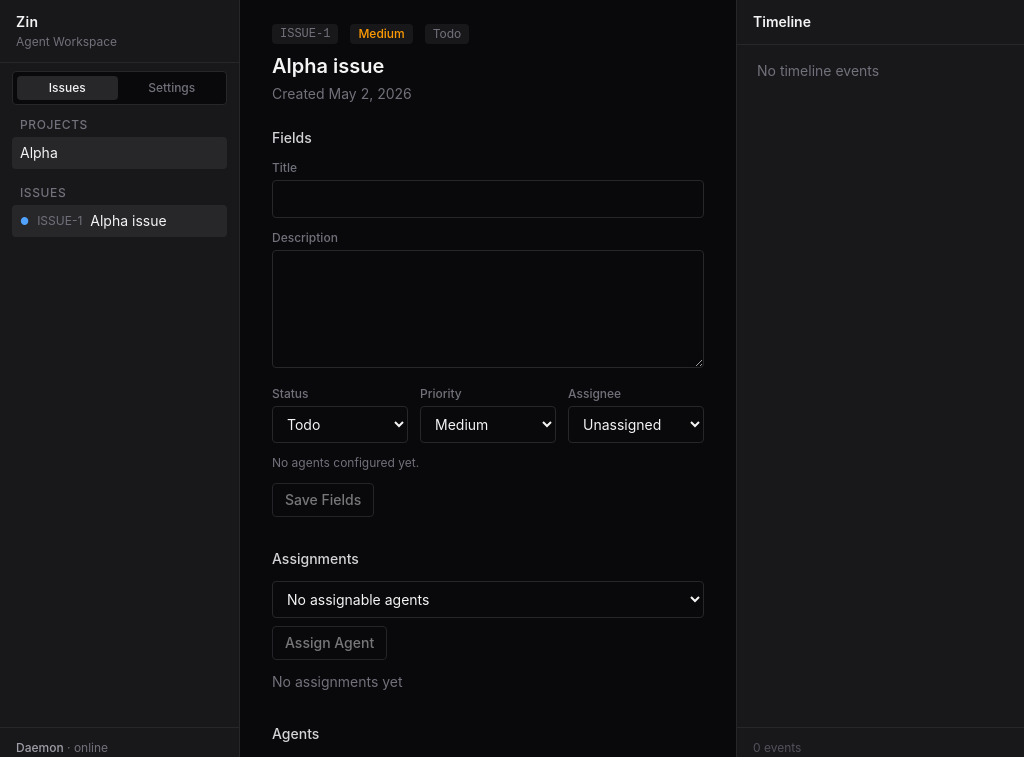
Scenario: App › keeps reloaded issue detail visible when the issue list reload is slow after save
The width and height of the screenshot is (1024, 757).
Expected: the heading "Alpha issue" is shown, [272,54,384,78]
Type "Saved title" into the field labelled "Title" at (488, 199), box [272,180,704,218]
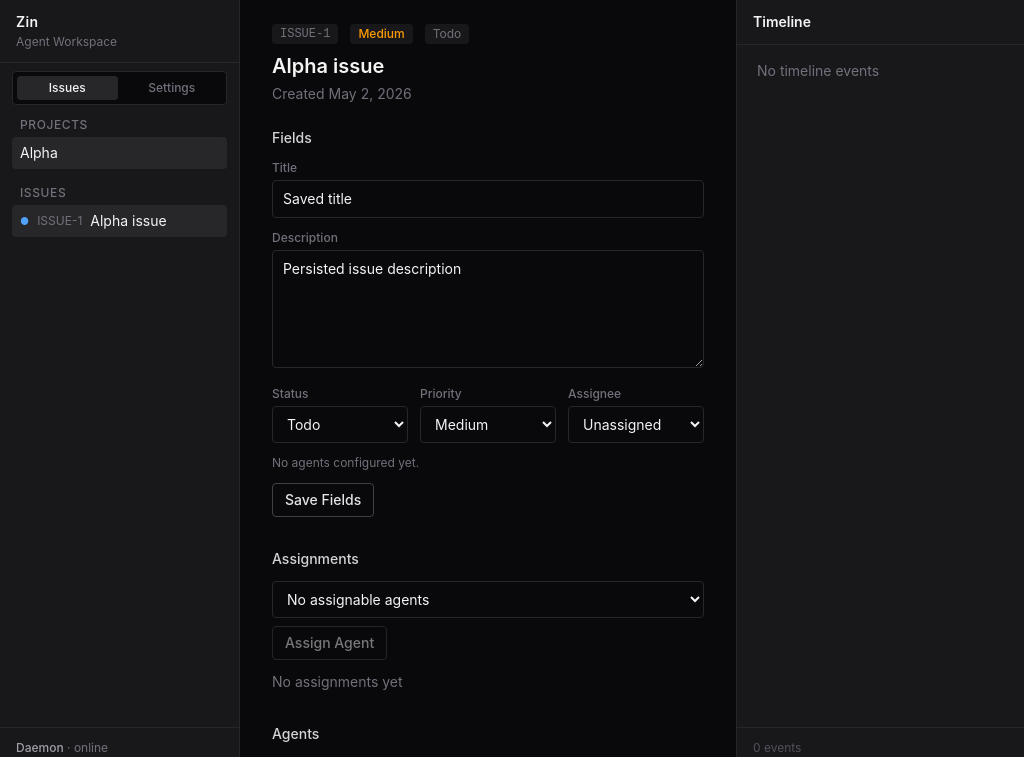
Click the button "Save Fields" at (323, 500), box [272,483,374,517]
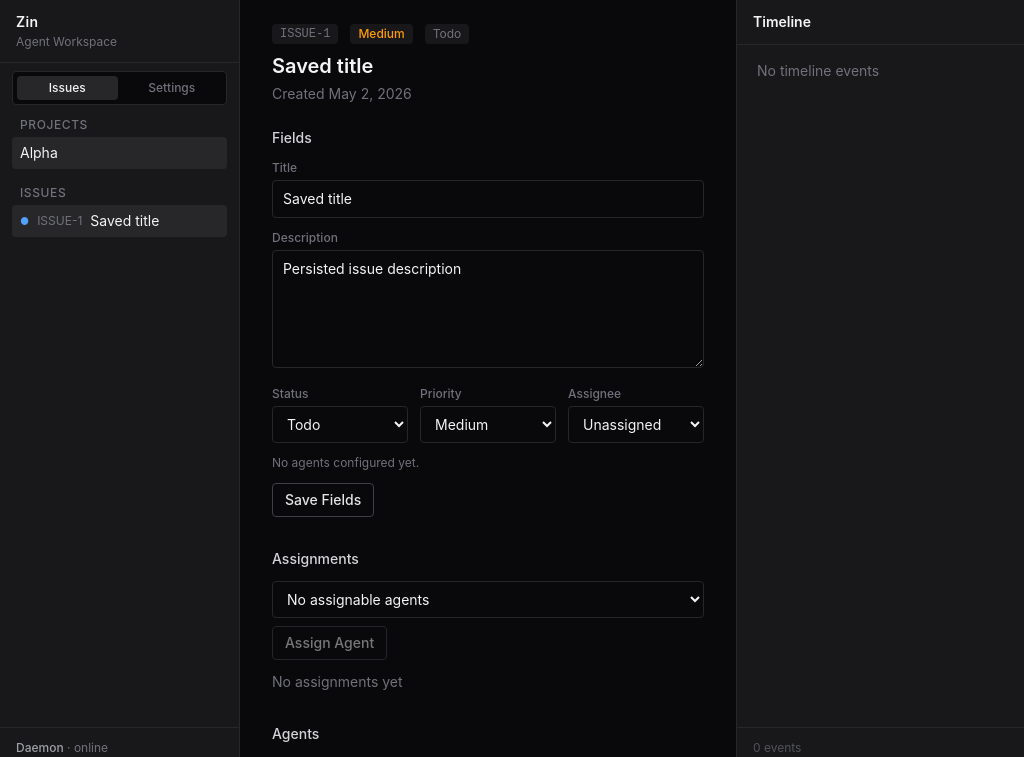
Now the heading "Saved title" is shown, box [272,54,373,78]
